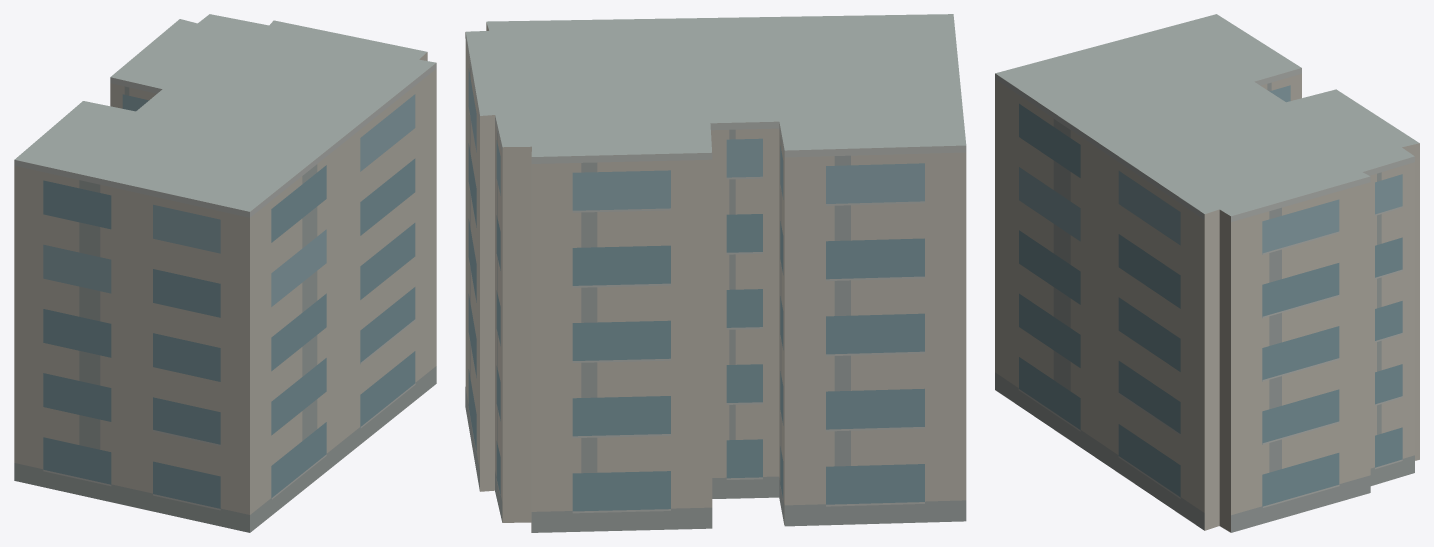
File: survey-upis-32576811.glb
3 renders of one model, left to right at view 1: azimuth 30°, elevation 25°; view 2: azimuth 150°, elevation 25°; view 3: azimuth 270°, elevation 25°, orthographic. The views are drawn at different scales.
Parts seen in each view (by area): view 1: survey-upis-32576811.tmp; view 2: survey-upis-32576811.tmp; view 3: survey-upis-32576811.tmp.
Part boxes in pixels (x1=…): survey-upis-32576811.tmp: x1=14, y1=14, x2=436, y2=532; survey-upis-32576811.tmp: x1=465, y1=14, x2=966, y2=532; survey-upis-32576811.tmp: x1=995, y1=14, x2=1419, y2=532.
Size of the model in its own units: 18.03 by 13.15 by 16.
